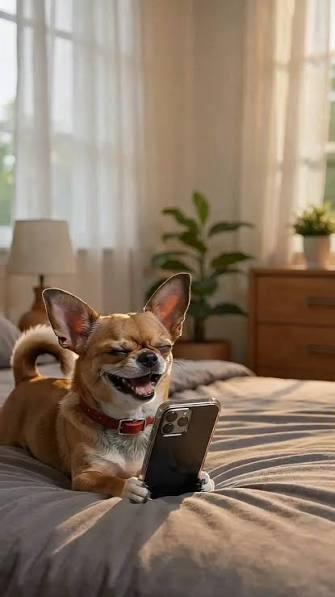adult_dog: (0, 272, 215, 503)
